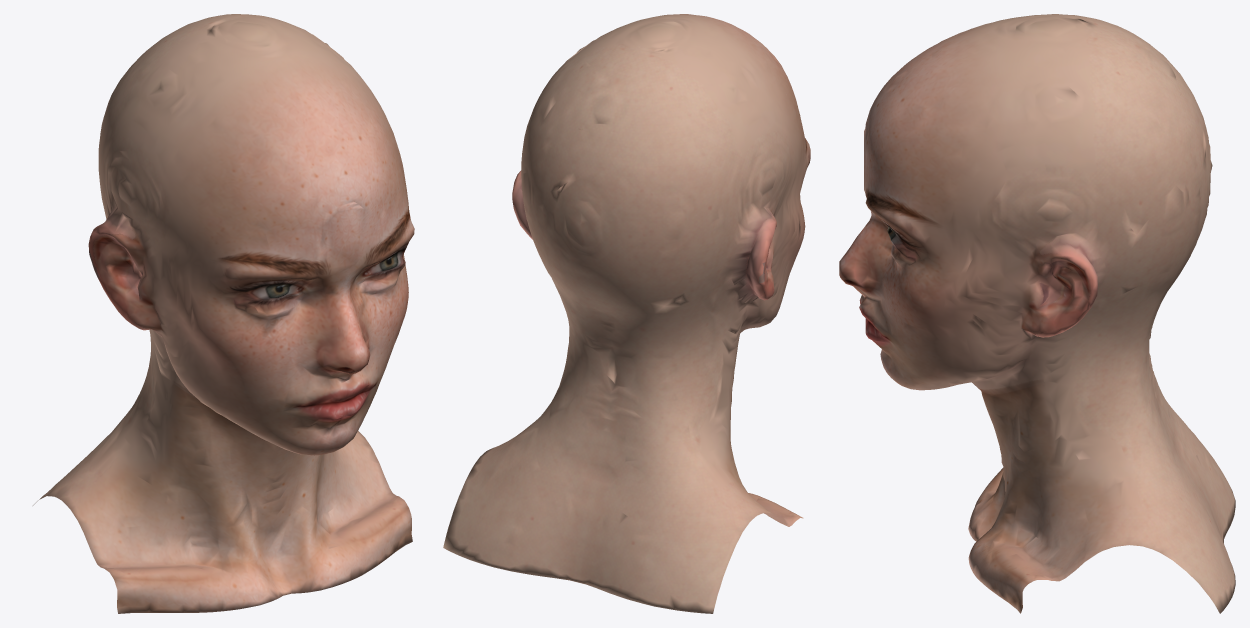
File: maren-head-v1.glb
3 views of the same model, side by side, from view 1: azimuth 30°, elevation 25°; view 2: azimuth 150°, elevation 25°; view 3: azimuth 270°, elevation 25° (orthographic). The views are drawn at different scales.
Parts seen in each view (by area): view 1: maren-head-m1-12000; view 2: maren-head-m1-12000; view 3: maren-head-m1-12000.
Boxes of the visible parts, x1,y1,x2,y2 form: maren-head-m1-12000: (33, 14, 414, 613); maren-head-m1-12000: (443, 14, 810, 613); maren-head-m1-12000: (839, 14, 1235, 613).
Size of the model in its own units: 0.52 by 0.901 by 0.6253.
1 material, 1 textured.
